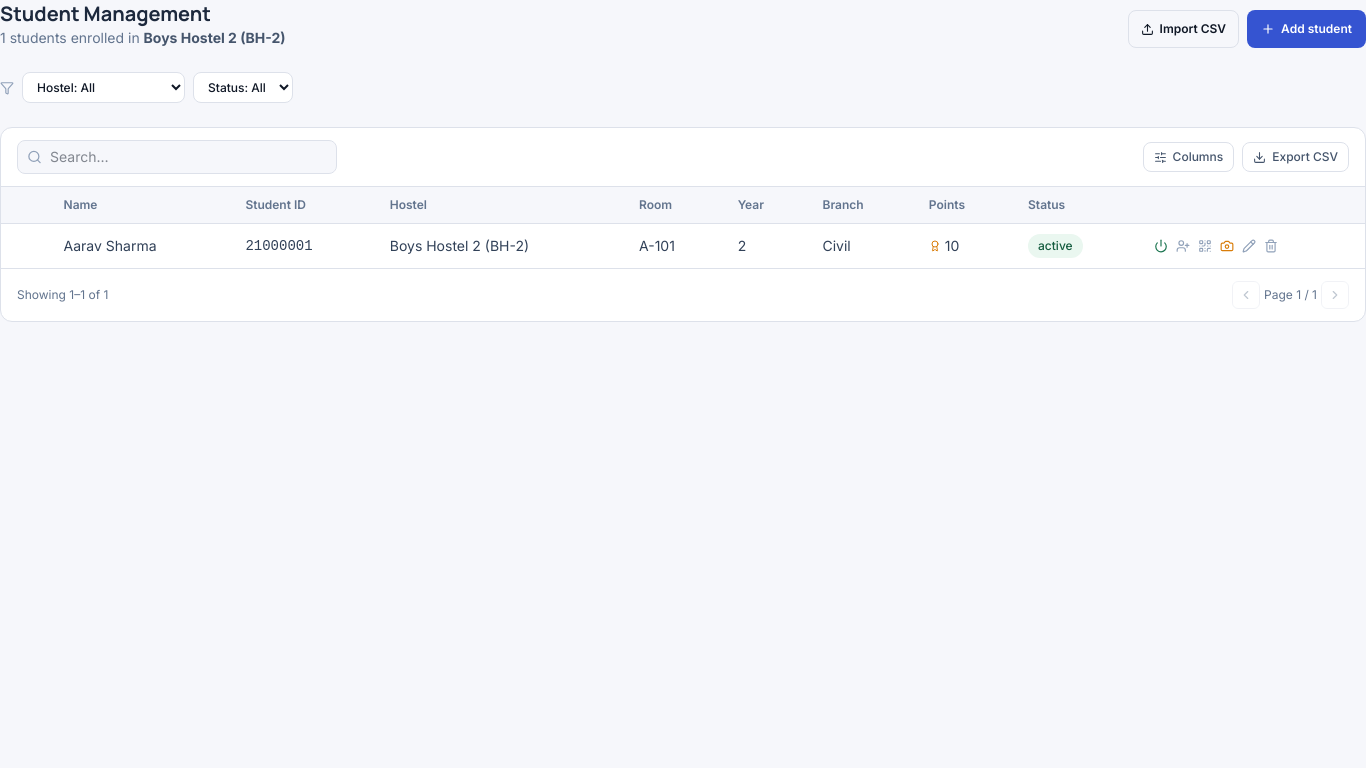
Test: Students — parent/guardian access shows the real password › an EXISTING parent account says the password can't be shown, and offers to issue a new one
Expected: the text "Aarav Sharma" is shown, [48, 224, 229, 268]
What coordinates should you click on to do the following:
click the button titled "generate parent/guardian access"
I would click on:
 (1183, 246)
Its box is [1176, 239, 1190, 253].
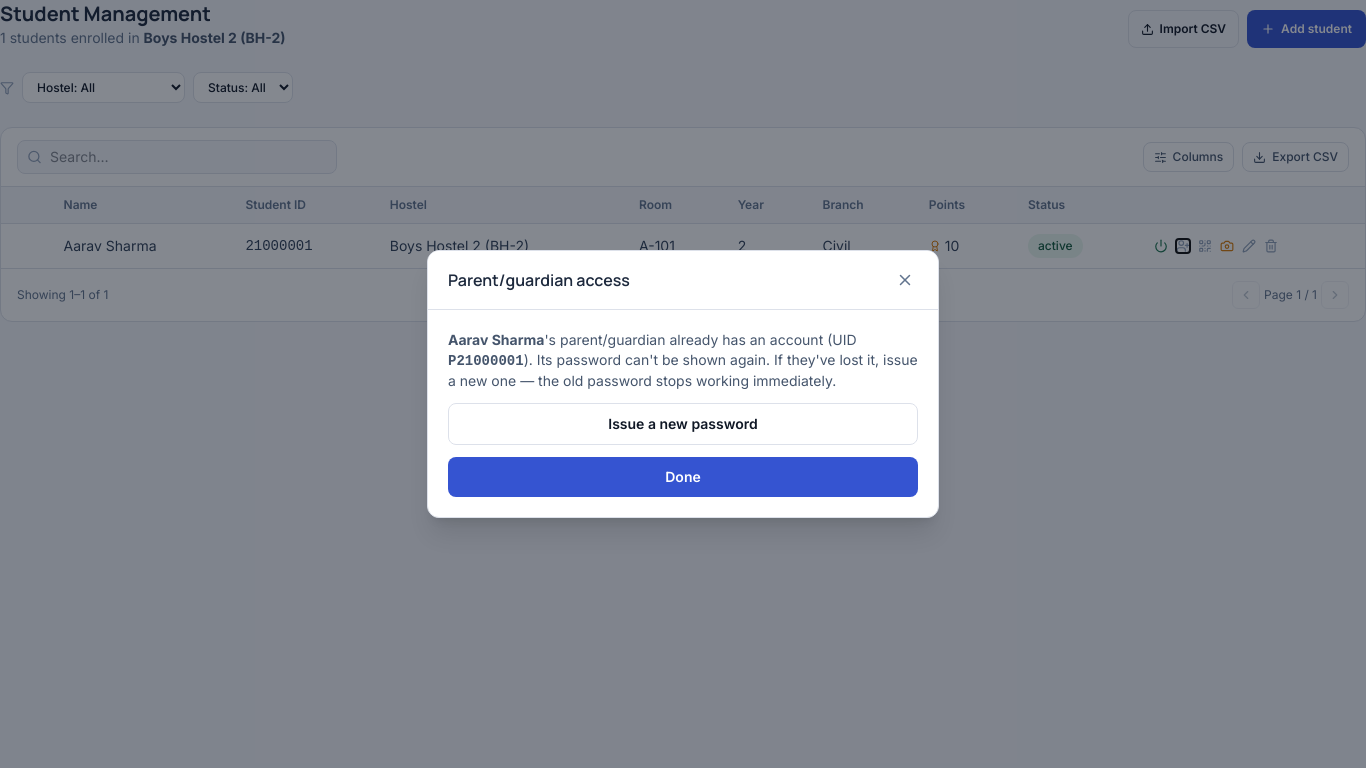
Expected: the text "already has an account" is shown, [544, 331, 856, 348]
What coordinates should you click on to do the following:
click the button "Issue a new password"
I would click on:
 (683, 424)
Its box is [448, 403, 918, 445].
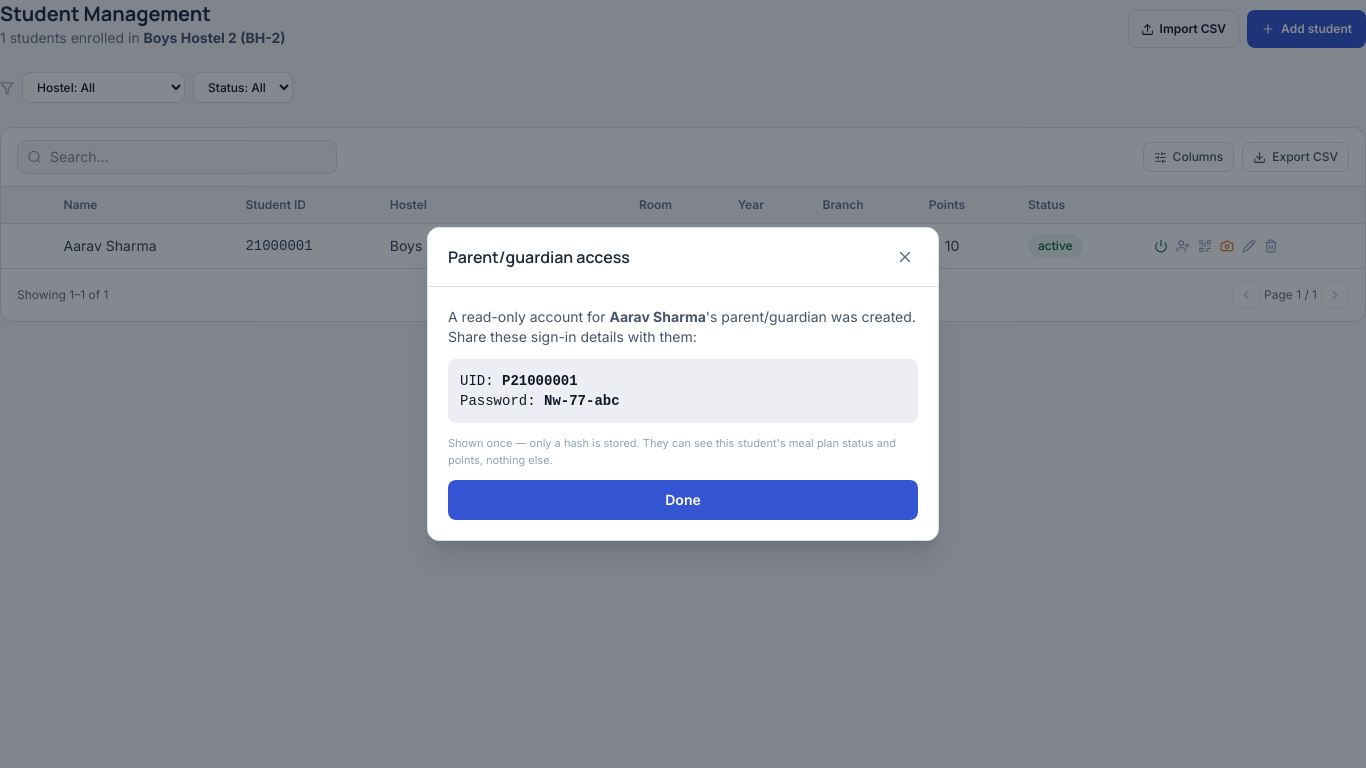
Expected: the element with test id "parent-credentials" shows "Nw-77-abc", [544, 393, 620, 409]
